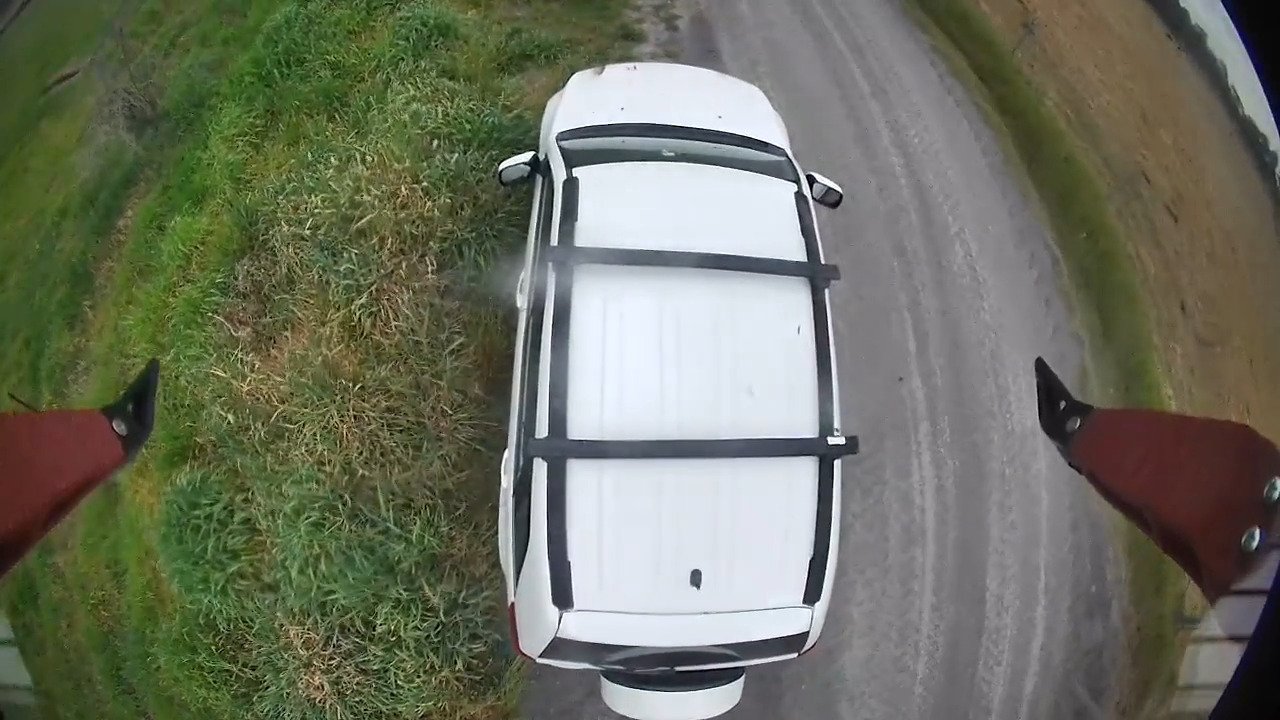Car: (497, 62, 858, 719)
